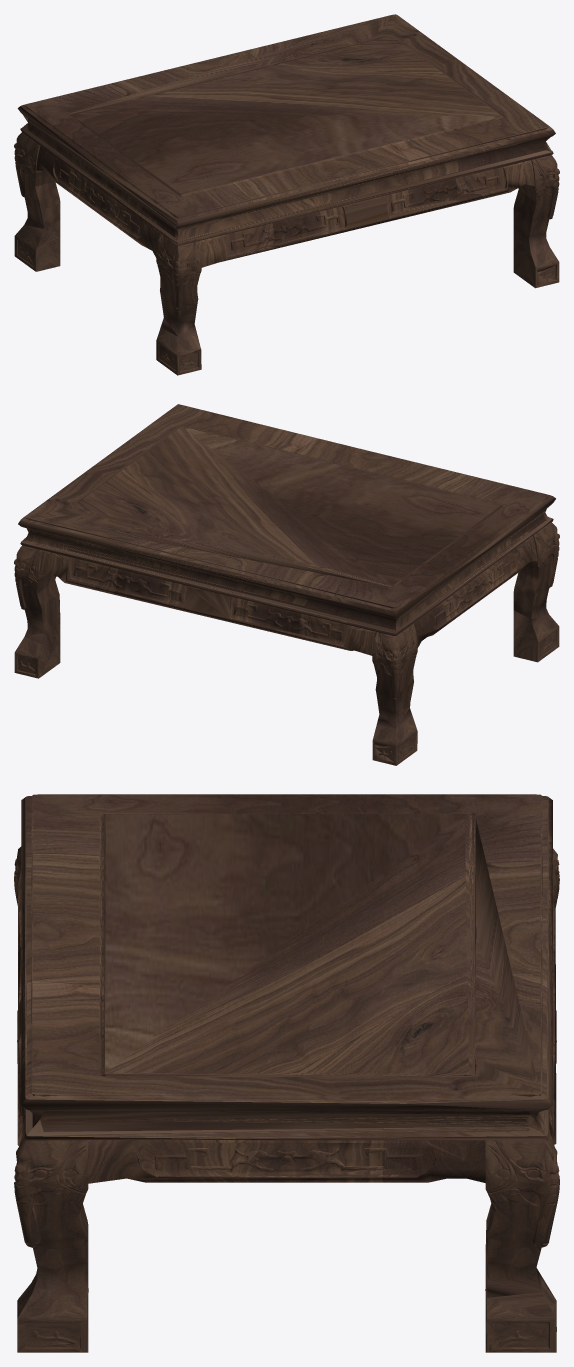
Rendered from long_table.fbx.
3 views of the same model, one above another, from view 1: azimuth 30°, elevation 25°; view 2: azimuth 150°, elevation 25°; view 3: azimuth 270°, elevation 25° (orthographic). The views are drawn at different scales.
Visible parts, largest first — view 1: long_table; view 2: long_table; view 3: long_table.
Boxes of the visible parts, x1,y1,x2,y2 form: long_table: [14, 14, 559, 375]; long_table: [14, 404, 559, 765]; long_table: [14, 794, 559, 1352].
Size of the model in its own units: 121 by 46.29 by 89.87.
1 material, 1 textured.
